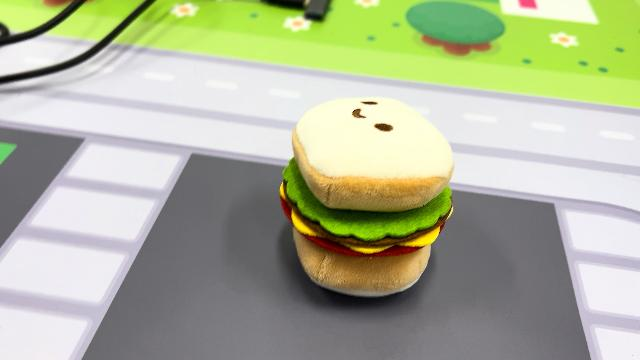sandwich: (276, 93, 458, 299)
